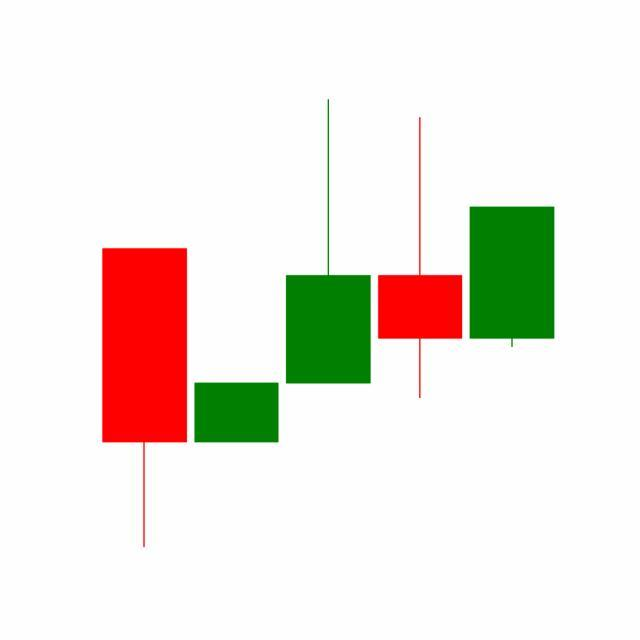Marubozu: (466, 206, 559, 350)
